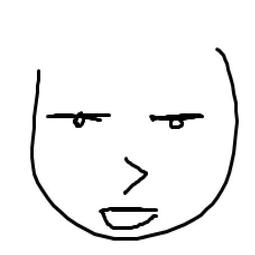open_mouth: (97, 204, 160, 232)
pointy_nose: (118, 155, 154, 199)
small_eye: (49, 104, 112, 131), (143, 109, 209, 133)
